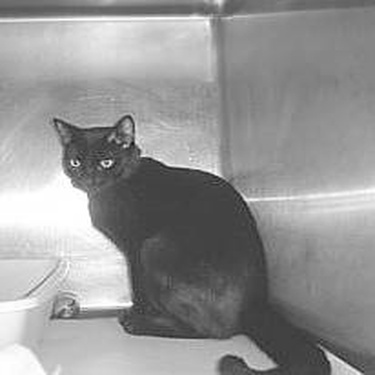cat: (50, 114, 334, 372)
